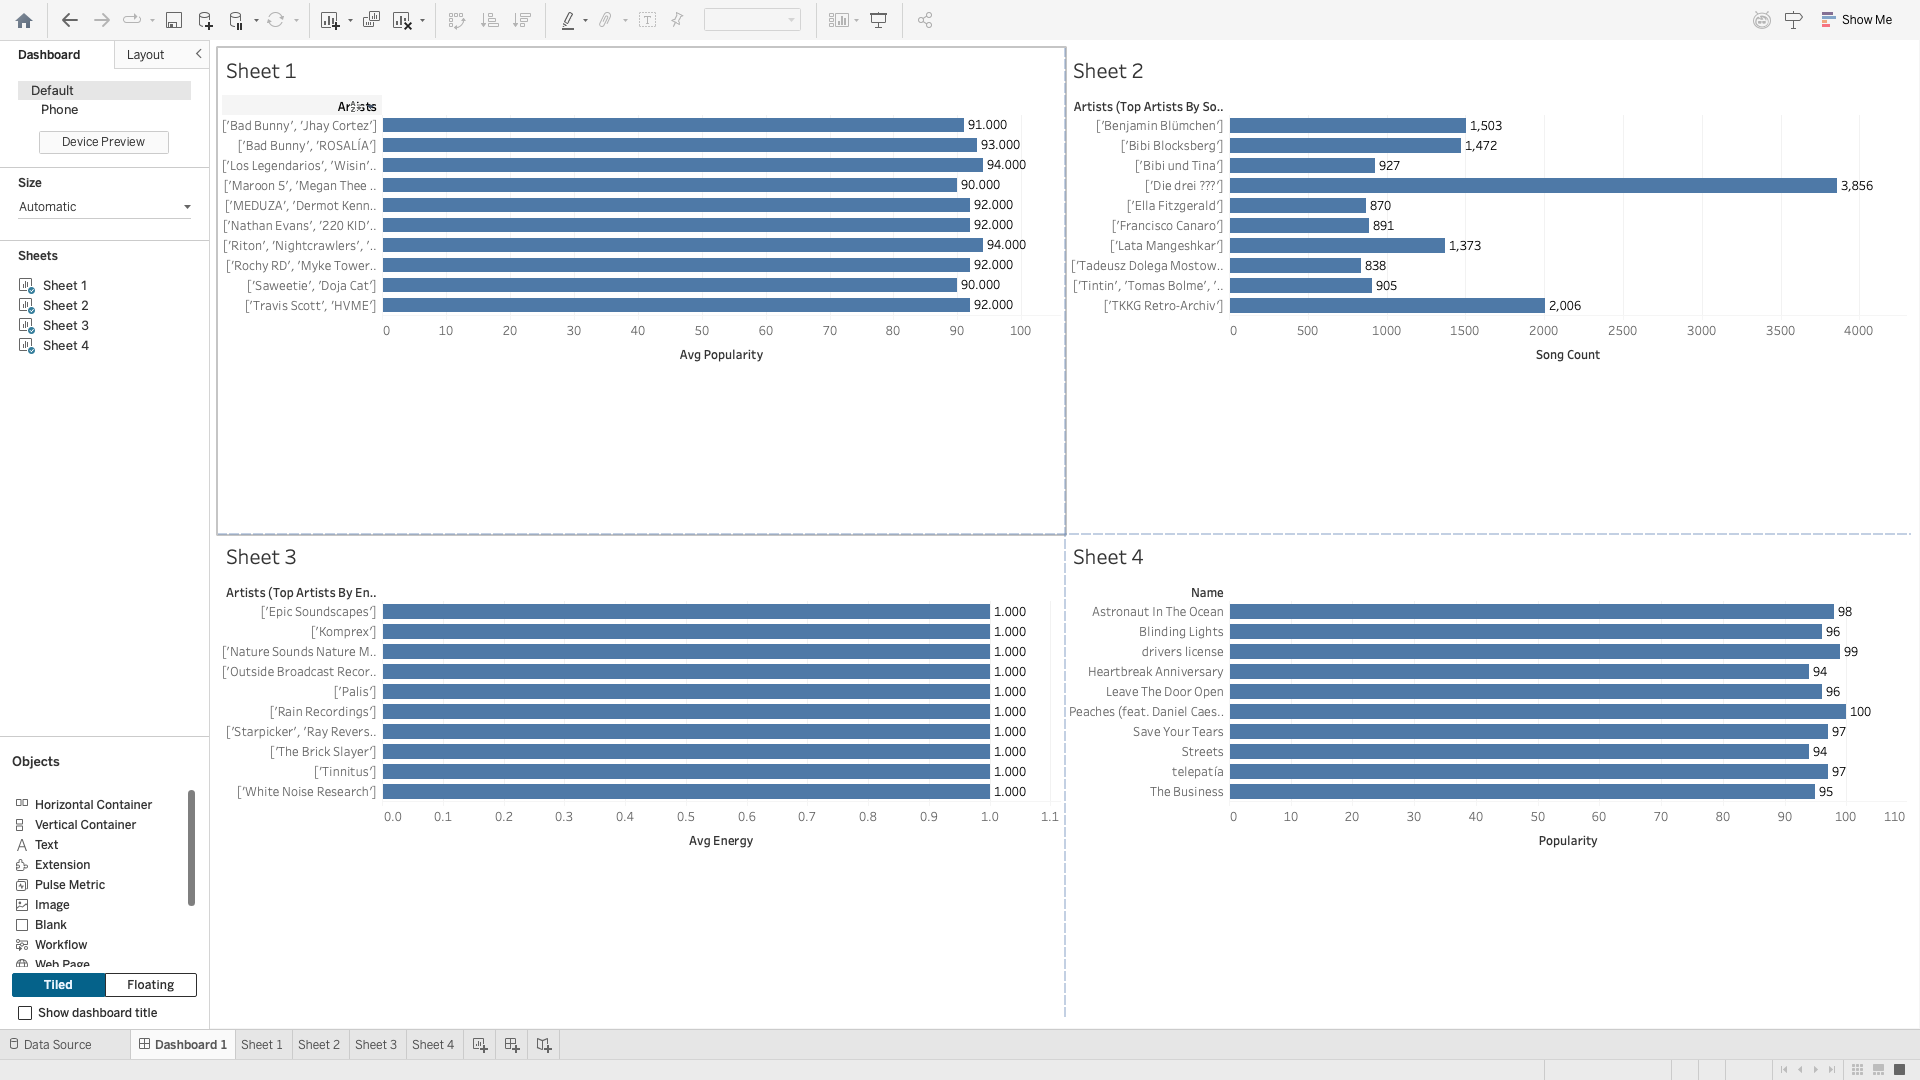

The dashboard page shown, as its layout file describes it:
{"tool":"tableau","page":{"name":"Dashboard 1","canvas":[1000,1000],"units":"permille","ordinal":0},"visuals":[{"type":"worksheet","title":"Sheet 1","mark":"Automatic","rows":["artists"],"cols":["avg_popularity"],"box":[4.7,8.1,495.3,491.9]},{"type":"worksheet","title":"Sheet 2","mark":"Automatic","rows":["artists (top_artists_by_song_count.csv)"],"cols":["song_count"],"box":[500,8.1,495.3,491.9]},{"type":"worksheet","title":"Sheet 3","mark":"Automatic","rows":["artists (top_artists_by_energy.csv)"],"cols":["avg_energy"],"box":[4.7,500,495.3,491.9]},{"type":"worksheet","title":"Sheet 4","mark":"Automatic","rows":["name"],"cols":["popularity"],"box":[500,500,495.3,491.9]}]}

Visuals, with their boxes on the dashboard's canvas, which has no fixed pixel size, in thousandths of its width and height (x1, y1, x2, y2). These are canvas units, not pixel positions in the 1920x1080 screenshot, which may show the page scaled, cropped or inside an application window:
"Sheet 1" worksheet: pyautogui.locateOnScreen(5, 8, 500, 500)
"Sheet 2" worksheet: pyautogui.locateOnScreen(500, 8, 995, 500)
"Sheet 3" worksheet: pyautogui.locateOnScreen(5, 500, 500, 992)
"Sheet 4" worksheet: pyautogui.locateOnScreen(500, 500, 995, 992)
